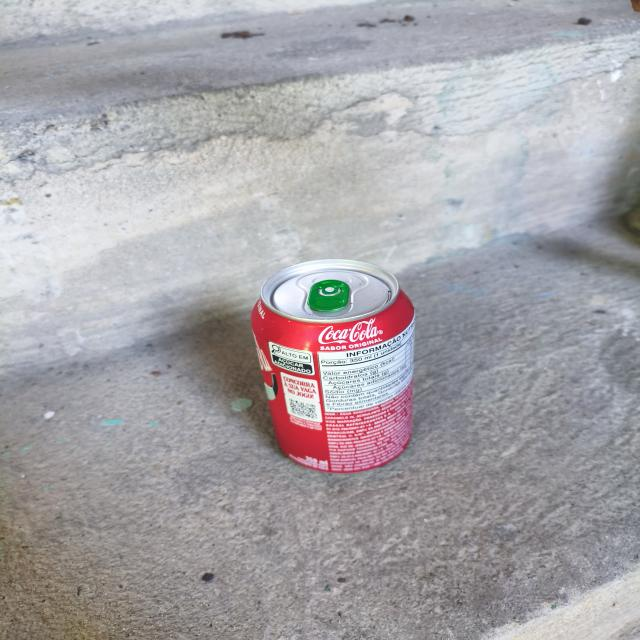Coca Cola: (204, 225, 493, 487)
